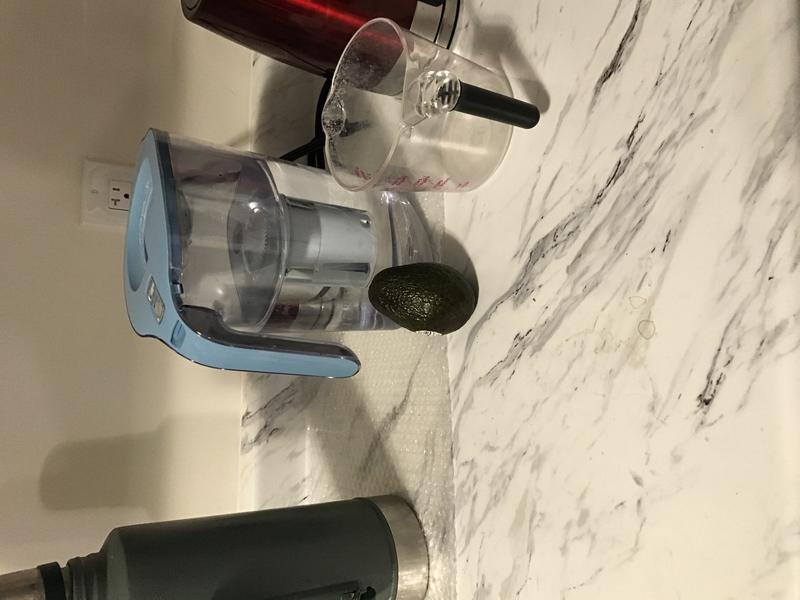avocado: (359, 259, 482, 338)
